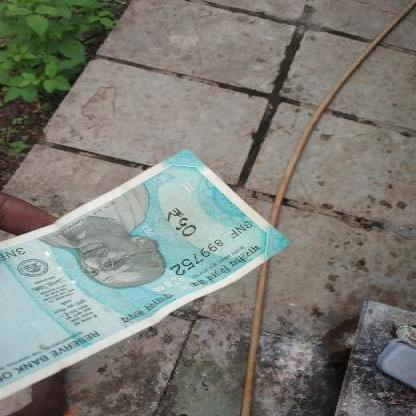New50Front: (1, 148, 292, 394)
